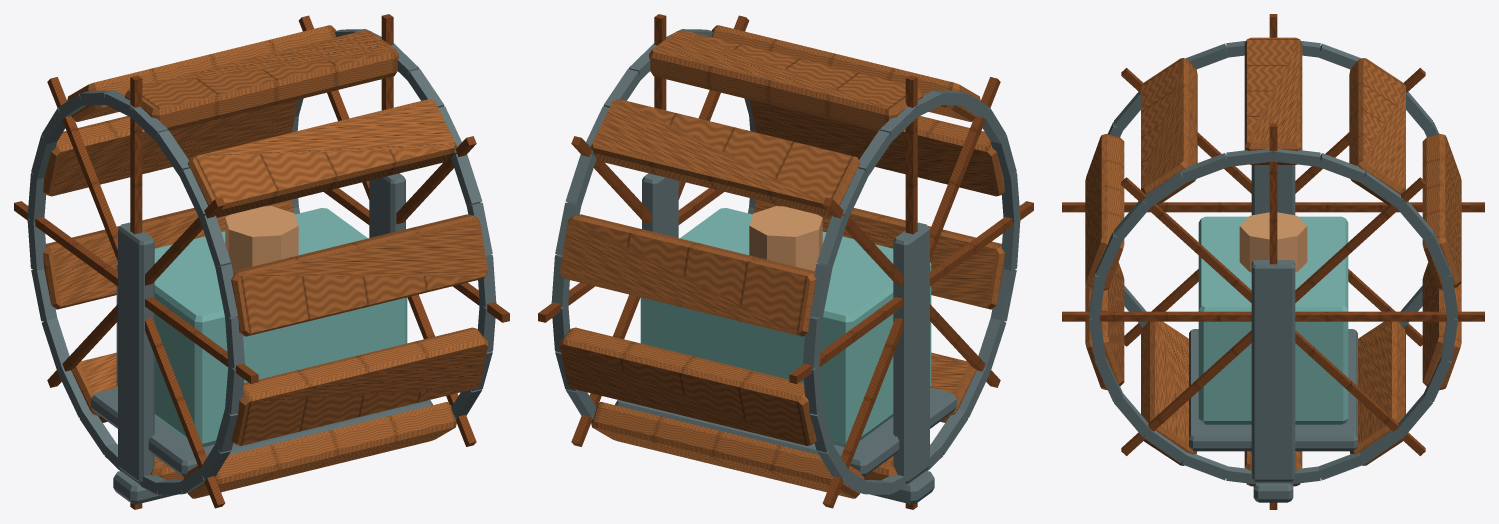
Rendered from ocean-raft-settlement-ocean-raft-settlement-paddlewhee-30e7396c__28911.glb.
3 renders of one model, left to right at view 1: azimuth 30°, elevation 25°; view 2: azimuth 150°, elevation 25°; view 3: azimuth 270°, elevation 25°, orthographic. The views are drawn at different scales.
Parts seen in each view (by area): view 1: pale, iron, teal, wood, copper; view 2: pale, iron, teal, wood, copper; view 3: pale, iron, wood, teal, copper.
Boxes of the visible parts, left/top/right/bottom form: pale: left=43, top=25, right=487, bottom=498; iron: left=27, top=29, right=496, bottom=504; teal: left=116, top=208, right=407, bottom=447; wood: left=14, top=14, right=509, bottom=509; copper: left=225, top=206, right=298, bottom=271; pale: left=560, top=25, right=1004, bottom=498; iron: left=551, top=29, right=1020, bottom=504; teal: left=640, top=208, right=931, bottom=447; wood: left=538, top=14, right=1033, bottom=509; copper: left=749, top=206, right=822, bottom=271; pale: left=1085, top=37, right=1461, bottom=486; iron: left=1089, top=41, right=1457, bottom=502; wood: left=1062, top=14, right=1484, bottom=509; teal: left=1198, top=216, right=1348, bottom=424; copper: left=1239, top=212, right=1307, bottom=272.
Bounding box in the file's own units: 1.45 × 2.12 × 2.12.
5 materials, 2 textured.
